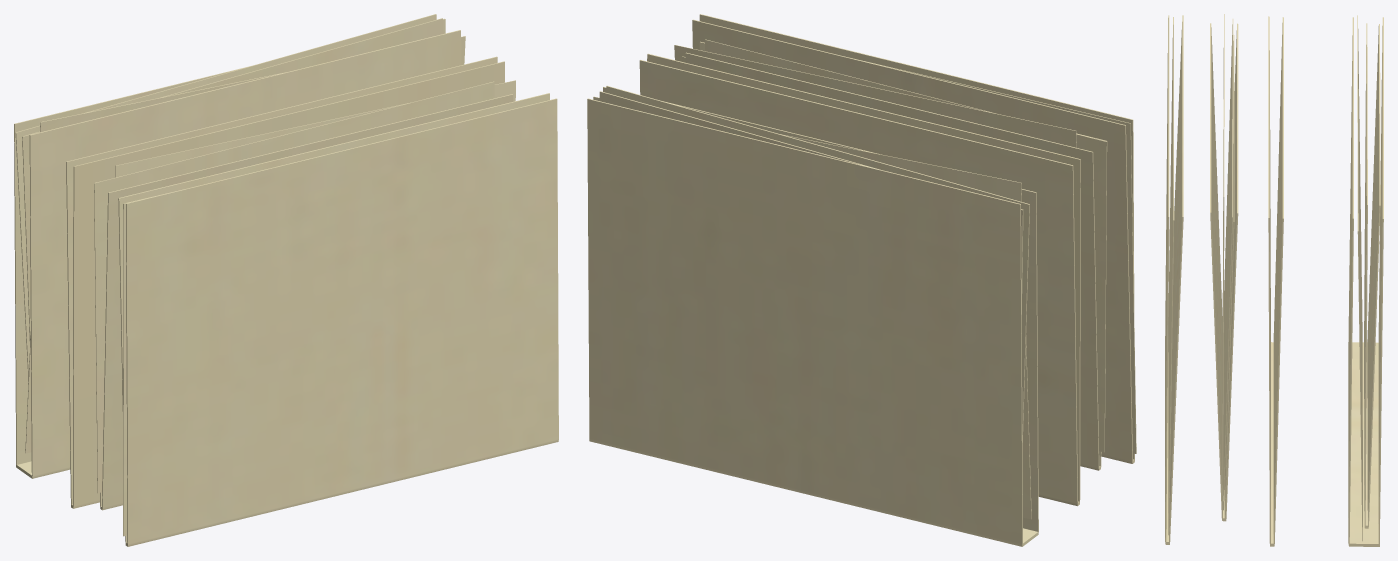
The model's file is folders1.fbx.
3 renders of one model, left to right at view 1: azimuth 30°, elevation 25°; view 2: azimuth 150°, elevation 25°; view 3: azimuth 270°, elevation 25°, orthographic. The views are drawn at different scales.
Parts seen in each view (by area): view 1: pCube13, pCube7, pCube9, pCube5; view 2: pCube7, pCube5, pCube13, pCube9; view 3: pCube7, pCube9, pCube13, pCube5.
Boxes of the visible parts, x1,y1,x2,y2 form: pCube13: [118, 93, 558, 546]; pCube7: [14, 14, 465, 478]; pCube9: [94, 80, 515, 510]; pCube5: [66, 56, 504, 508]; pCube7: [587, 85, 1038, 546]; pCube5: [639, 53, 1080, 506]; pCube13: [692, 14, 1136, 463]; pCube9: [674, 39, 1107, 470]; pCube7: [1348, 15, 1383, 546]; pCube9: [1210, 14, 1238, 521]; pCube13: [1165, 15, 1183, 544]; pCube5: [1268, 16, 1283, 546].
Bounding box in the file's own units: 99.64 × 75.98 × 44.62.
